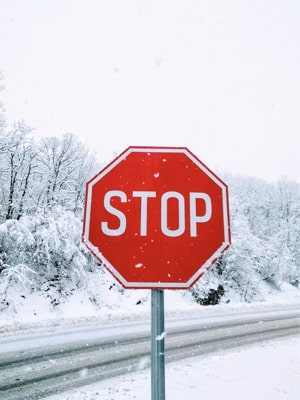StopSign: (81, 144, 234, 293)
